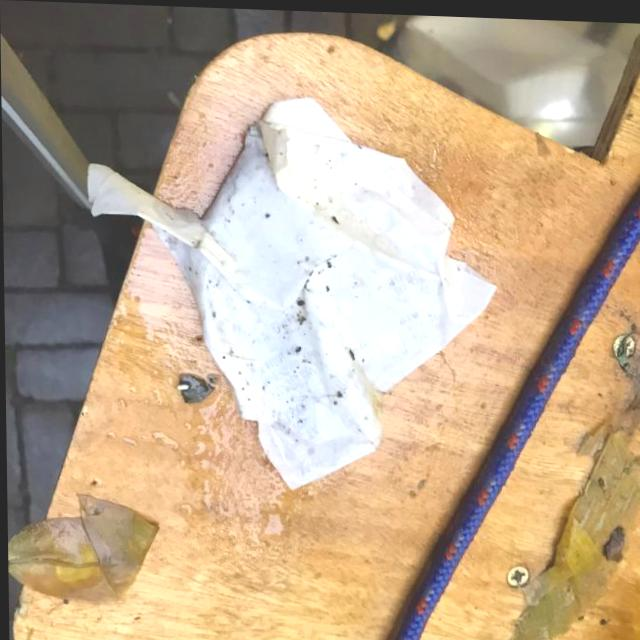Paper: (164, 106, 489, 492)
